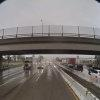Bridge: (4, 15, 93, 61)
